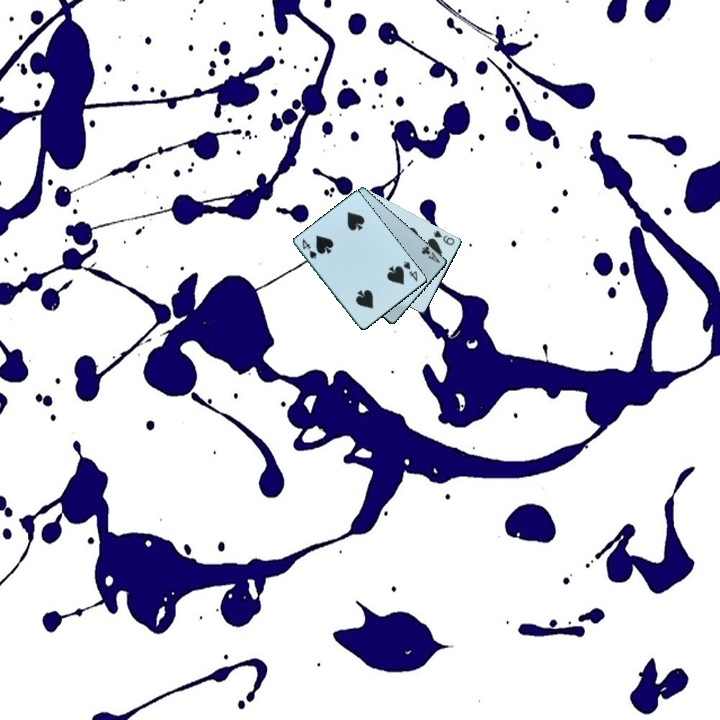4s: (299, 235, 320, 262), (400, 258, 421, 284)
9s: (430, 227, 458, 248)
Ac: (418, 243, 443, 266)
